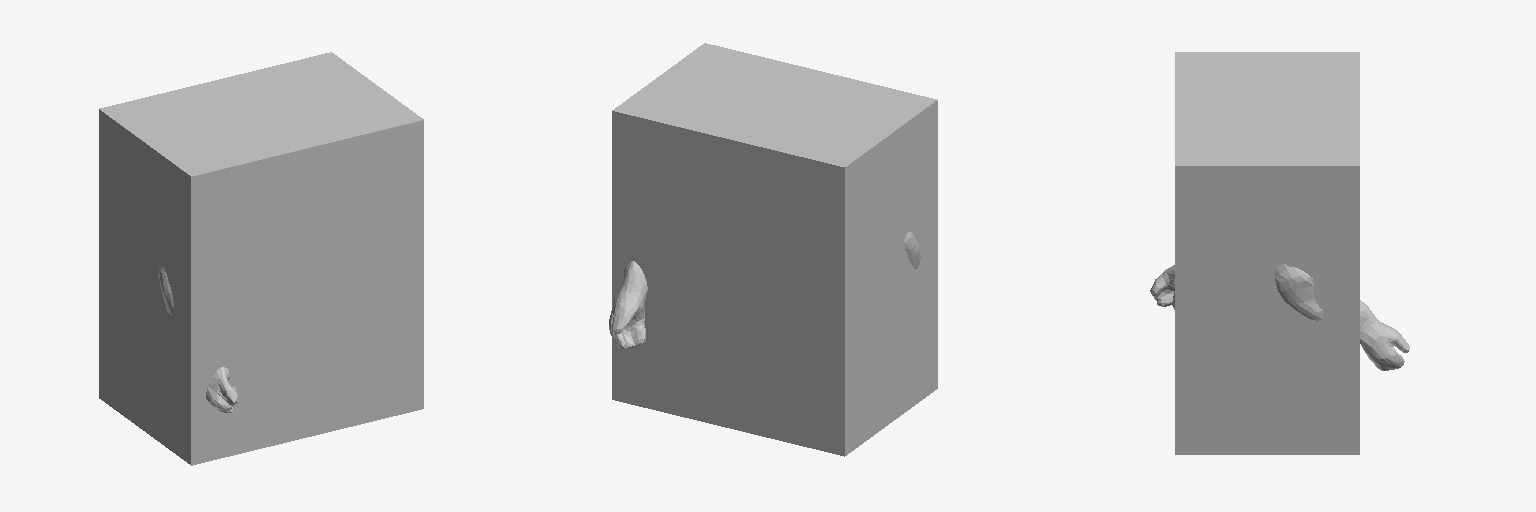
The model's file is MagmaElemental_1_000010.obj.
3 renders of one model, left to right at view 1: azimuth 30°, elevation 25°; view 2: azimuth 150°, elevation 25°; view 3: azimuth 270°, elevation 25°, orthographic.
Visible parts, largest first — view 1: Cube, Elemental_FireGolem; view 2: Cube, Elemental_FireGolem; view 3: Cube, Elemental_FireGolem.
Part boxes in pixels (left/top/right/bottom): Cube: left=99, top=52, right=423, bottom=465; Elemental_FireGolem: left=158, top=113, right=265, bottom=412; Cube: left=612, top=43, right=937, bottom=456; Elemental_FireGolem: left=609, top=104, right=920, bottom=348; Cube: left=1175, top=52, right=1359, bottom=454; Elemental_FireGolem: left=1150, top=110, right=1409, bottom=370.
Bounding box in the file's own units: 3.37 × 3.91 × 3.15.